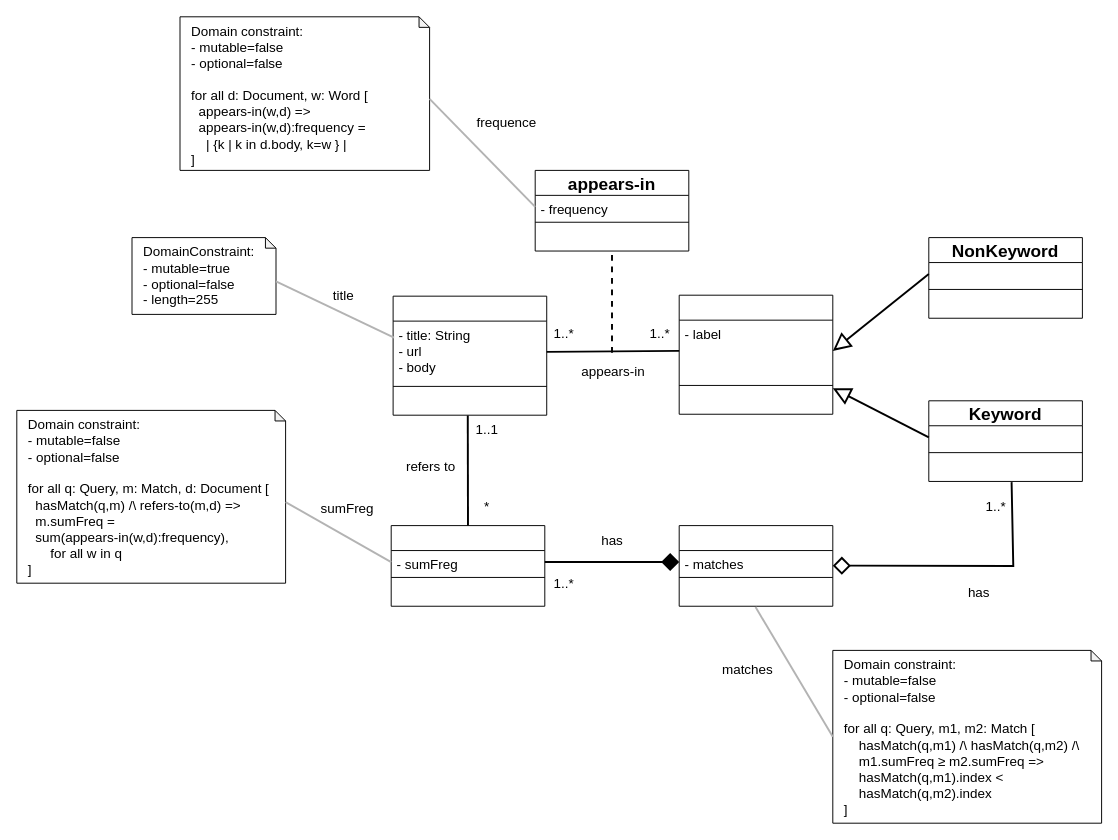
Some shapes in this 1118 by 840 pixel diagram are drawn without their labels. Each missing label, with the box of its shape:
Document: (392, 295, 547, 415)
Match: (390, 525, 545, 606)
Query: (678, 525, 833, 606)
Word: (678, 294, 833, 414)
